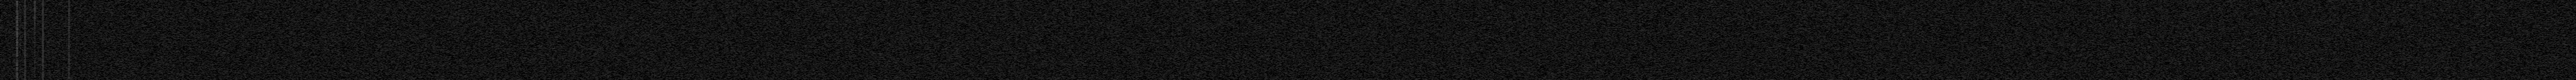wv_am: (67, 0, 71, 80)
wv_cw: (23, 0, 26, 80), (41, 0, 44, 70), (41, 72, 44, 80)
wv_lsb: (143, 36, 146, 51), (145, 54, 146, 70), (145, 75, 146, 80), (145, 2, 146, 5), (145, 31, 146, 34), (145, 20, 146, 23), (145, 70, 146, 72), (145, 52, 146, 54), (145, 28, 146, 29), (145, 24, 146, 26), (145, 13, 146, 15)
wv_usb: (33, 0, 36, 77), (15, 0, 18, 72), (18, 13, 21, 75), (15, 72, 18, 80), (18, 0, 21, 7), (18, 75, 21, 80), (18, 8, 21, 13), (34, 77, 36, 80)
